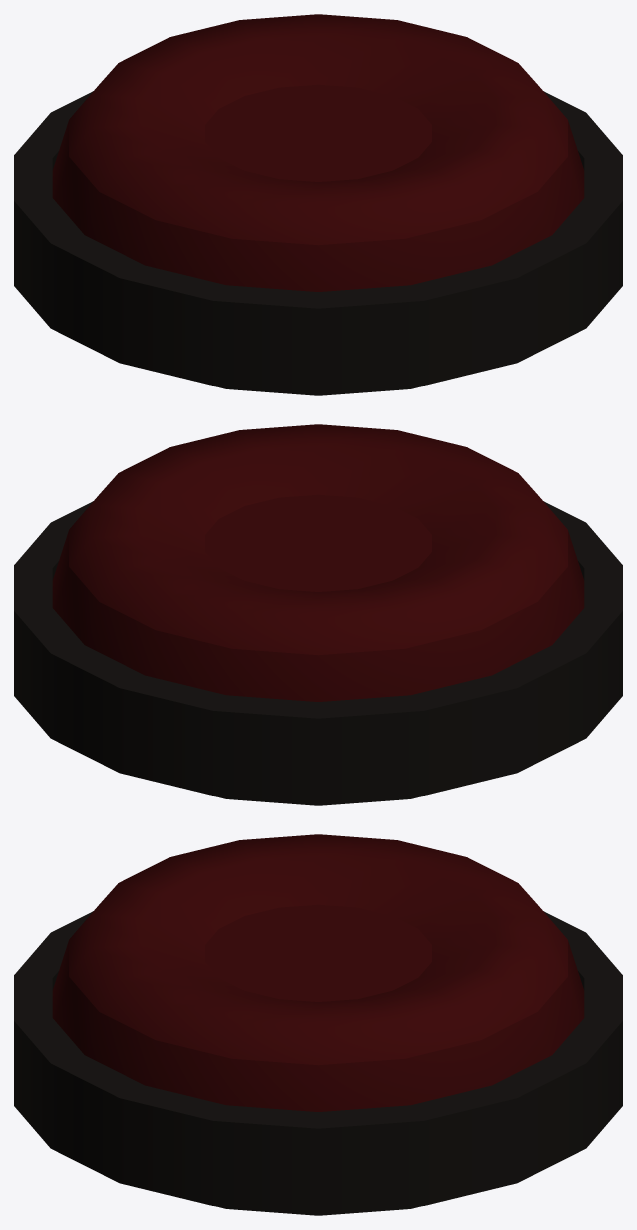
Rendered from action_bouton2_01.FBX.
3 renders of one model, top to bottom at view 1: azimuth 30°, elevation 25°; view 2: azimuth 150°, elevation 25°; view 3: azimuth 270°, elevation 25°, orthographic.
Parts seen in each view (by area): view 1: Object005, Cylinder023; view 2: Object005, Cylinder023; view 3: Object005, Cylinder023.
Part boxes in pixels (box(x1,y1,x2,y2)): Object005: box(52, 14, 584, 291); Cylinder023: box(14, 91, 622, 395); Object005: box(52, 424, 584, 701); Cylinder023: box(14, 501, 622, 805); Object005: box(52, 834, 584, 1111); Cylinder023: box(14, 911, 622, 1215).
Size of the model in its own units: 12.27 by 3.72 by 12.09.
